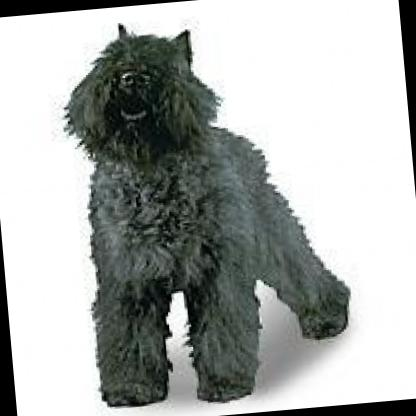Bouvier_des_Flandres: (47, 2, 359, 416)
